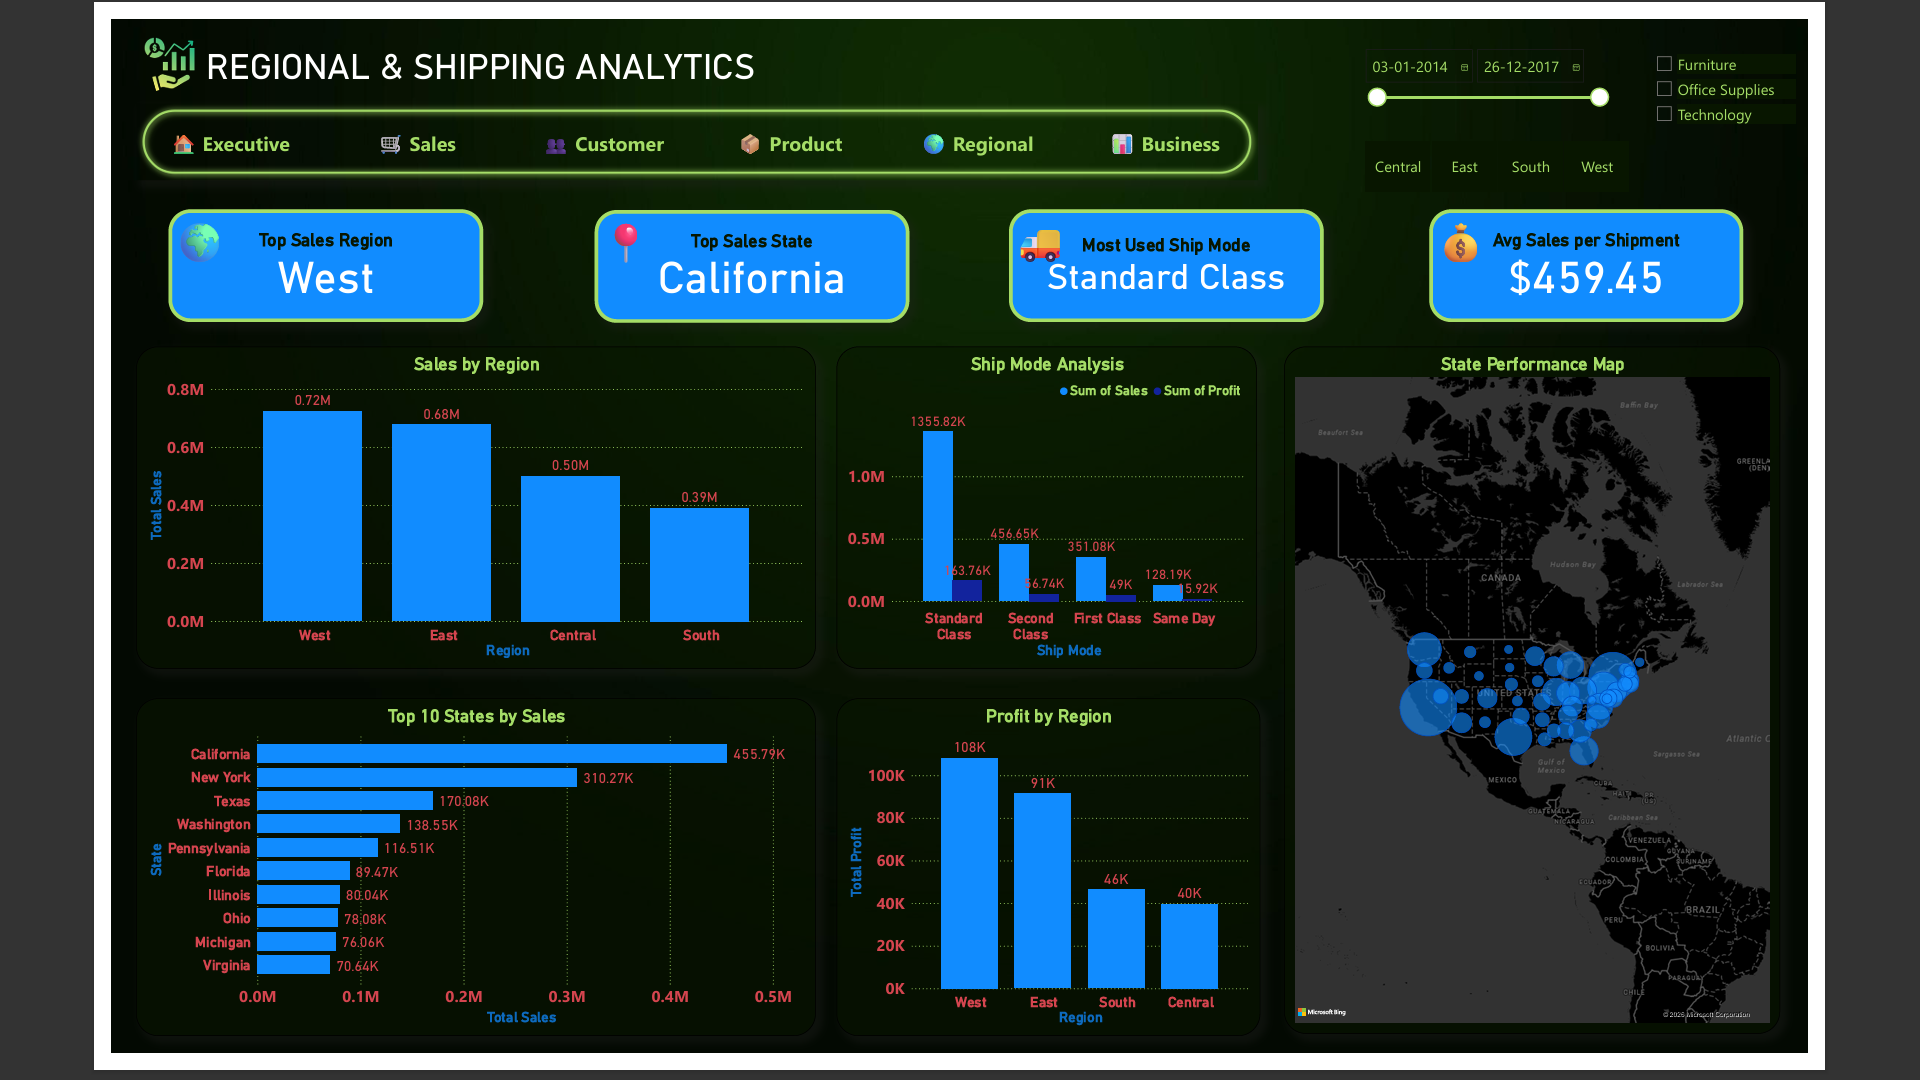

The page's visual inventory and layout, read from the dashboard file:
{"tool":"powerbi","page":{"name":"Regional Analysis","canvas":[2300,1400],"ordinal":4},"visuals":[{"type":"group","id":"g1","title":"Group 2","box":[33.3,113.3,1523.3,103.3],"z":0},{"type":"actionButton","box":[33.3,113.3,1522.5,105],"z":0,"group":"g1"},{"type":"cardVisual","fields":{"Data":["Sample_ Superstore.Top Sales Region"]},"box":[76.7,256.7,426.7,153.3],"z":0,"group":"g3"},{"type":"cardVisual","fields":{"Data":["Sample_ Superstore.Most Used Ship Mode"]},"box":[1216.7,256.7,426.7,153.3],"z":0,"group":"g5"},{"type":"cardVisual","fields":{"Data":["Sample_ Superstore.Top Sales State"]},"box":[655,257.5,426.7,153.3],"z":0,"group":"g4"},{"type":"actionButton","box":[33.3,117,254.7,101.3],"z":1000,"group":"g2"},{"type":"cardVisual","fields":{"Data":["Sample_ Superstore.Avg Sales per Shipment"]},"box":[1786.7,256.7,426.7,153.3],"z":1000},{"type":"textbox","box":[77.8,257.8,426.7,90],"z":1000,"group":"g3"},{"type":"textbox","box":[1217.8,257.8,426.7,90],"z":1000,"group":"g5"},{"type":"textbox","box":[656.1,258.6,426.7,90],"z":1000,"group":"g4"},{"type":"image","box":[32.5,23.3,90,75],"z":2000},{"type":"actionButton","box":[287.3,117,253.3,101.3],"z":2000,"group":"g2"},{"type":"actionButton","box":[541,117,252.5,101.3],"z":3000,"group":"g2"},{"type":"textbox","box":[1787.8,257.8,426.7,83.3],"z":3000},{"type":"group","id":"g2","title":"Group 1","box":[33.3,117,1522.5,101.3],"z":3004,"group":"g1"},{"type":"textbox","box":[122.5,30,1065,75],"z":4000},{"type":"actionButton","box":[793.4,117,252.5,101.3],"z":4000,"group":"g2"},{"type":"slicer","fields":{"Values":["Sample_ Superstore.Order Date"]},"box":[1687.5,30,352.5,97.5],"z":5000},{"type":"actionButton","box":[1047.1,117,253.3,101.3],"z":5000,"group":"g2"},{"type":"actionButton","box":[1301.1,117,254.7,101.3],"z":6000,"group":"g2"},{"type":"slicer","fields":{"Values":["Sample_ Superstore.Region"]},"box":[1675,157.5,407.5,82.5],"z":6000},{"type":"slicer","fields":{"Values":["Sample_ Superstore.Category"]},"box":[2082.5,37.5,207.5,152.5],"z":7000},{"type":"group","id":"g3","title":"Group 3","box":[76.7,256.7,427.8,153.3],"z":8000},{"type":"group","id":"g4","title":"Group 3","box":[655,257.5,425,152.5],"z":9000},{"type":"group","id":"g5","title":"Group 3","box":[1216.7,256.7,427.8,153.3],"z":10000},{"type":"clusteredColumnChart","title":"Profit by Region","fields":{"Category":["Sample_ Superstore.Region"],"Y":["Sample_ Superstore.Total Profit"]},"box":[982.5,920,575,457.5],"z":11000},{"type":"clusteredColumnChart","title":"Ship Mode Analysis","fields":{"Category":["Sample_ Superstore.Ship Mode"],"Y":["Sum(Sample_ Superstore.Sales)","Sum(Sample_ Superstore.Profit)"]},"box":[982.5,442.5,570,437.5],"z":12000},{"type":"clusteredBarChart","title":"Top 10 States by Sales","fields":{"Category":["Sample_ Superstore.State"],"Y":["Sample_ Superstore.Total Sales"]},"box":[32.5,920,922.5,457.5],"z":13000},{"type":"map","title":"State Performance Map","fields":{"Category":["Sample_ Superstore.State"],"Size":["Sample_ Superstore.Total Sales"]},"box":[1590,442.5,672.5,932.5],"z":14000},{"type":"clusteredColumnChart","title":" Sales by Region","fields":{"Y":["Sample_ Superstore.Total Sales"],"Category":["Sample_ Superstore.Region"]},"box":[32.5,442.5,922.5,437.5],"z":15000}]}

Visuals, with their boxes on the page's 2300x1400 design canvas (x1, y1, x2, y2). These are canvas units, not pixel positions in the 1920x1080 screenshot, which may show the page scaled, cropped or inside an application window:
"Group 2" group: 33:113:1557:217
actionButton: 33:113:1556:218
cardVisual - Sample_ Superstore.Top Sales Region: 77:257:503:410
cardVisual - Sample_ Superstore.Most Used Ship Mode: 1217:257:1643:410
cardVisual - Sample_ Superstore.Top Sales State: 655:258:1082:411
actionButton: 33:117:288:218
cardVisual - Sample_ Superstore.Avg Sales per Shipment: 1787:257:2213:410
textbox: 78:258:504:348
textbox: 1218:258:1644:348
textbox: 656:259:1083:349
image: 32:23:122:98
actionButton: 287:117:541:218
actionButton: 541:117:794:218
textbox: 1788:258:2214:341
"Group 1" group: 33:117:1556:218
textbox: 122:30:1188:105
actionButton: 793:117:1046:218
slicer - Sample_ Superstore.Order Date: 1688:30:2040:128
actionButton: 1047:117:1300:218
actionButton: 1301:117:1556:218
slicer - Sample_ Superstore.Region: 1675:158:2082:240
slicer - Sample_ Superstore.Category: 2082:38:2290:190
"Group 3" group: 77:257:504:410
"Group 3" group: 655:258:1080:410
"Group 3" group: 1217:257:1644:410
"Profit by Region" clusteredColumnChart: 982:920:1558:1378
"Ship Mode Analysis" clusteredColumnChart: 982:442:1552:880
"Top 10 States by Sales" clusteredBarChart: 32:920:955:1378
"State Performance Map" map: 1590:442:2262:1375
" Sales by Region" clusteredColumnChart: 32:442:955:880
